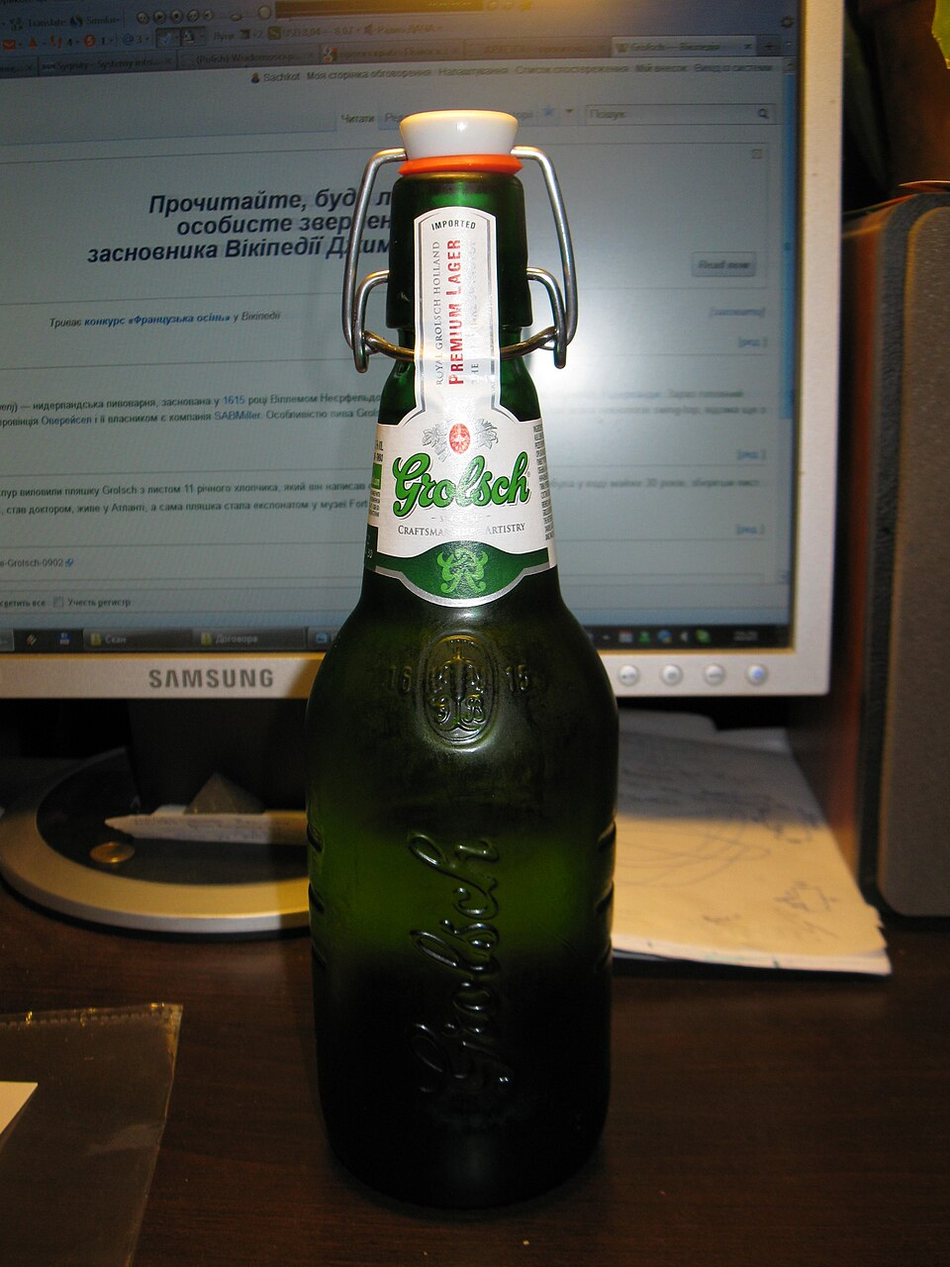beer-bottle: (285, 104, 640, 1215)
